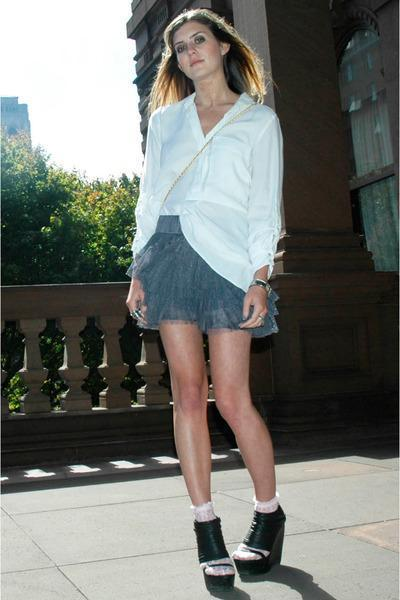jacket: (130, 93, 285, 291)
shoe: (194, 505, 285, 581)
skirt: (126, 215, 279, 337)
